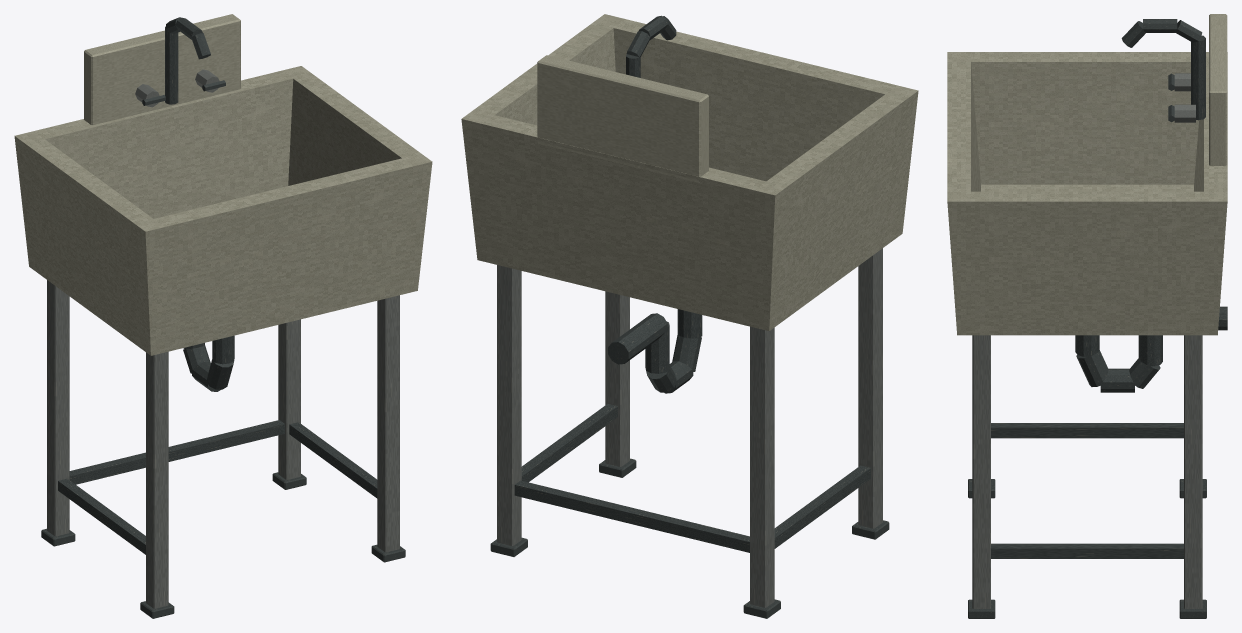
File: utility_sink.glb
The picture shows the model from 3 angles, left to right: view 1: azimuth 30°, elevation 25°; view 2: azimuth 150°, elevation 25°; view 3: azimuth 270°, elevation 25°; orthographic projection. The views are drawn at different scales.
Visible parts, largest first — view 1: utility_sink; view 2: utility_sink; view 3: utility_sink.
Part boxes in pixels (box(x1,y1,x2,y2)): utility_sink: box(14, 14, 432, 618); utility_sink: box(461, 14, 918, 618); utility_sink: box(947, 14, 1227, 618).
Size of the model in its own units: 0.67 by 1.11 by 0.53.
4 materials, 4 textured.
